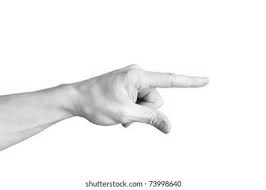pointing_gesture: (58, 62, 210, 134)
